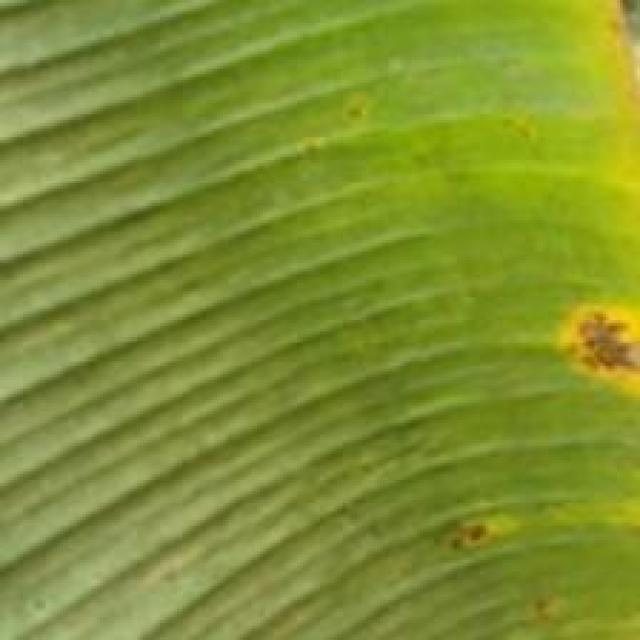Downey_mildrew: (448, 0, 640, 251), (420, 491, 640, 640), (504, 251, 640, 426)
